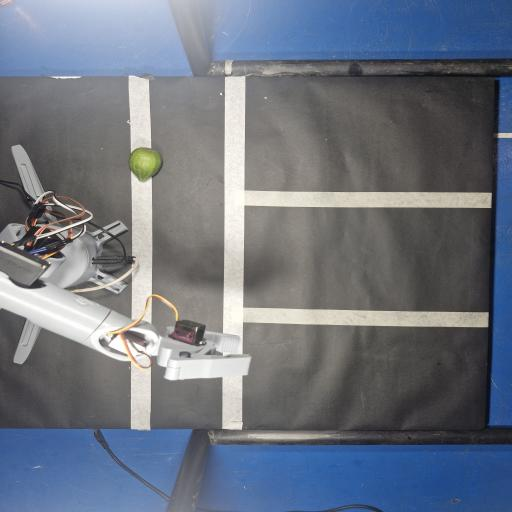higo: (129, 147, 162, 182)
